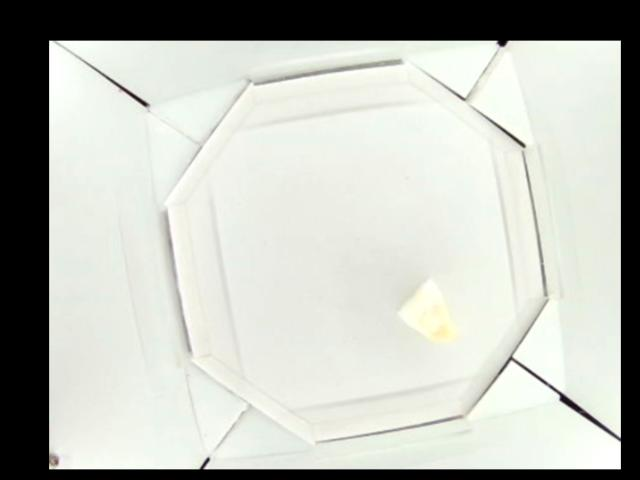Mooli: (398, 280, 456, 343)
